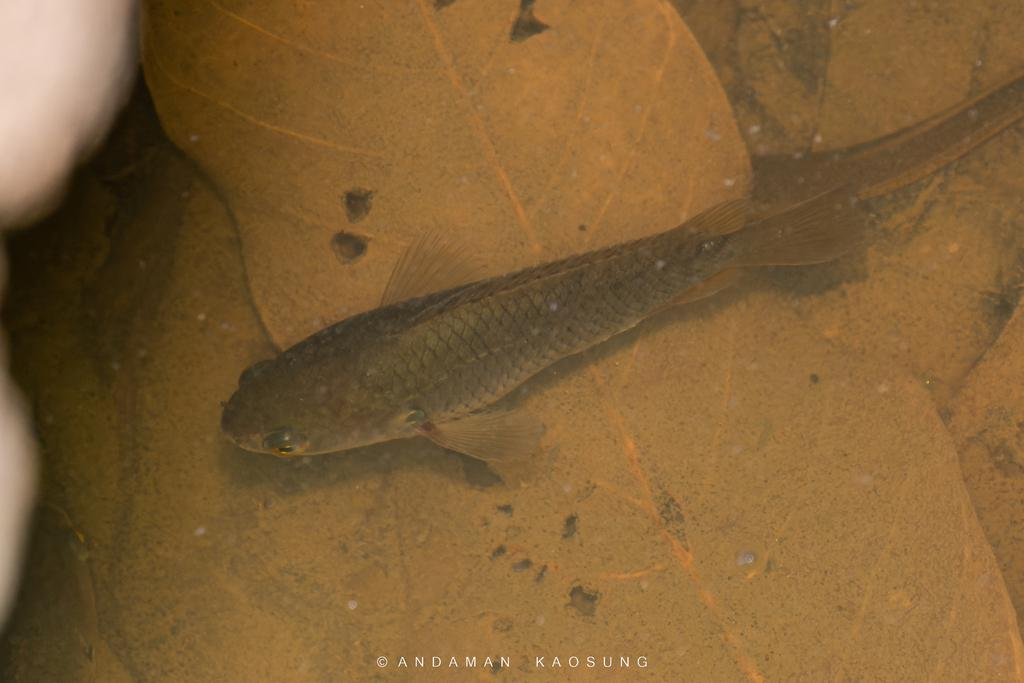Climbing Perch: (222, 178, 865, 478)
